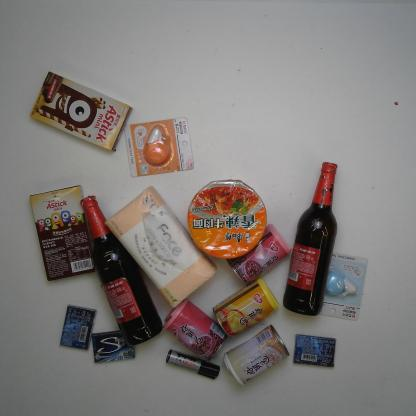Alcohol: (80, 193, 164, 348), (282, 161, 338, 317)
Canned Food: (226, 222, 292, 288), (223, 324, 291, 387), (212, 277, 280, 338), (163, 298, 227, 362)
Dessert: (29, 71, 132, 153), (28, 185, 96, 282)
Gum: (58, 303, 98, 350), (91, 330, 135, 363), (293, 334, 336, 367)
Instant Noodles: (187, 179, 268, 260)
Stationery: (124, 116, 193, 178), (315, 251, 369, 321), (165, 349, 220, 380)
Tissue: (104, 185, 219, 310)
